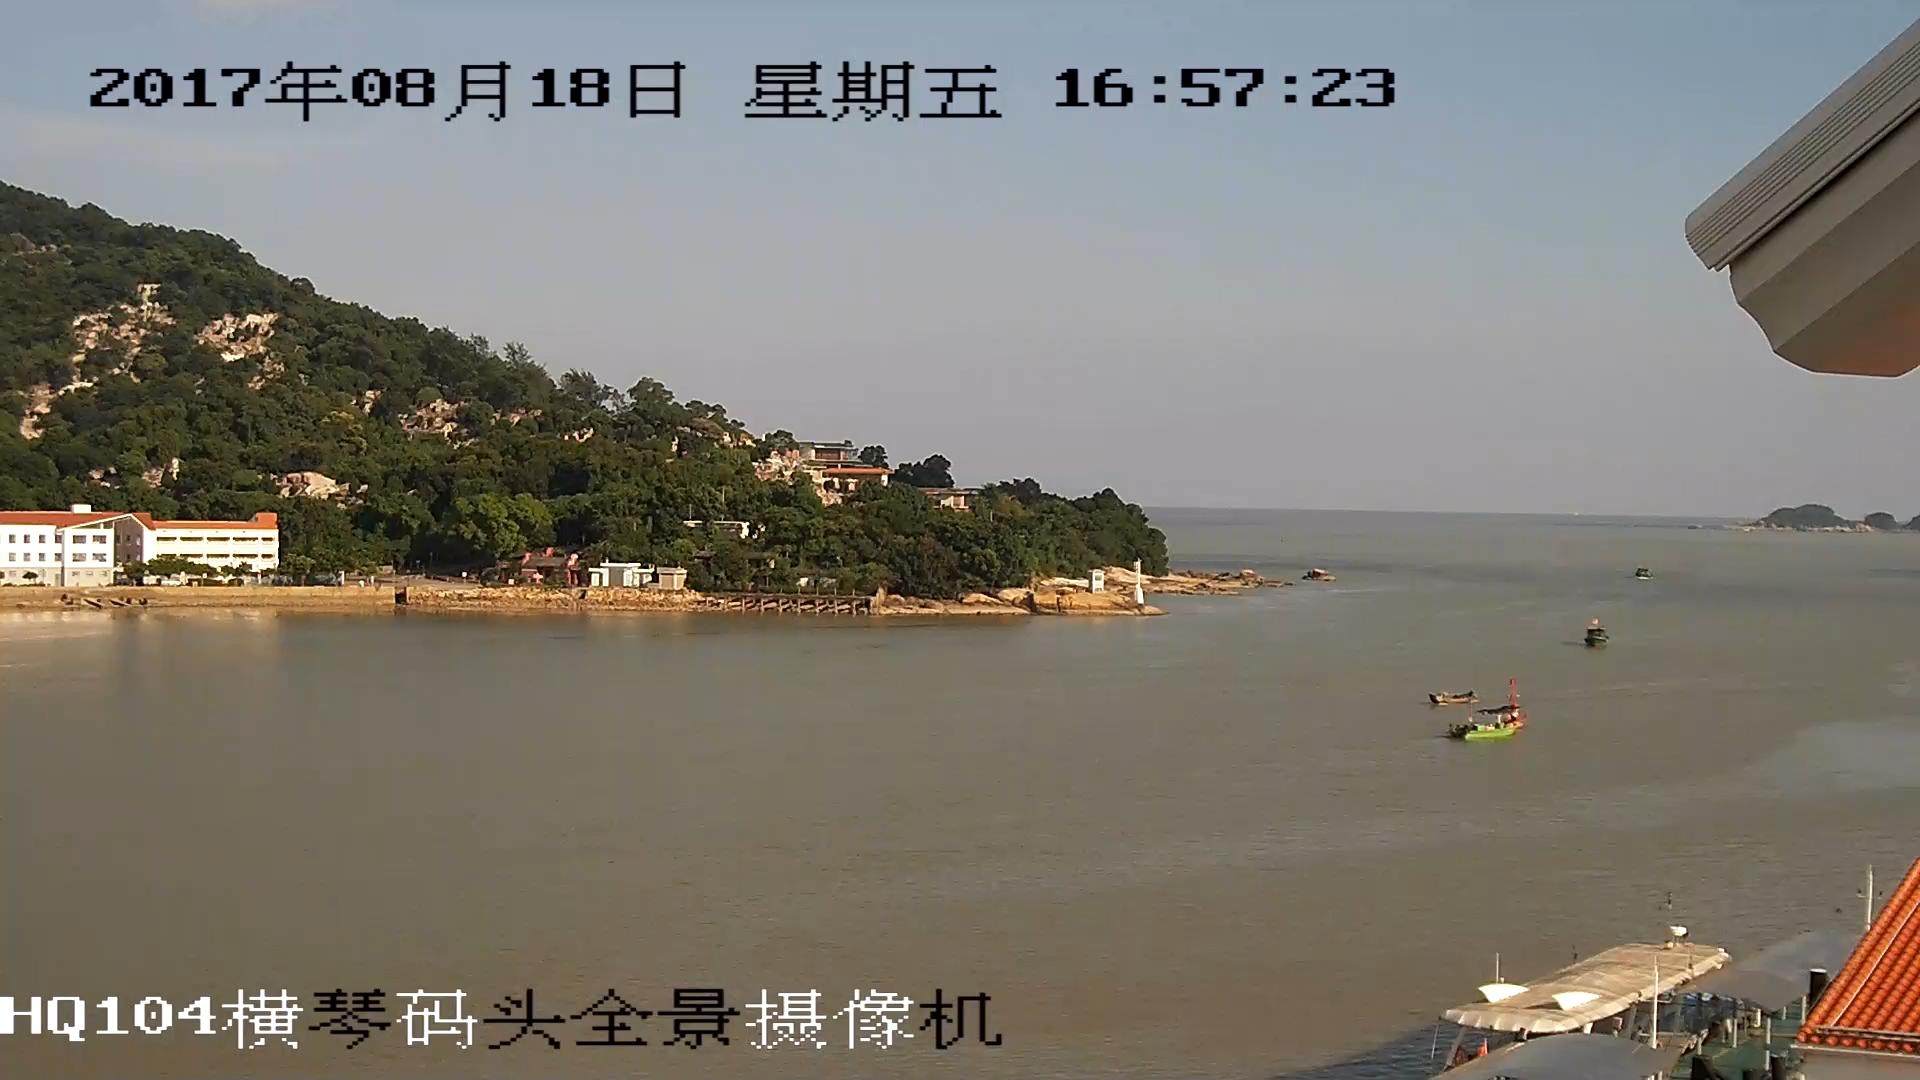fishing boat: (1457, 711, 1527, 738), (1432, 685, 1475, 704)
